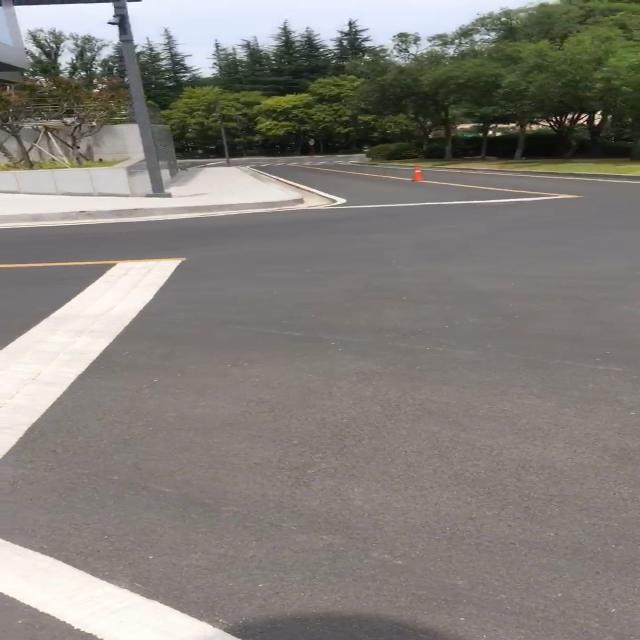obstacle: (108, 0, 173, 199), (401, 162, 428, 181)
road: (0, 160, 640, 640)
sidewalk: (0, 163, 304, 231)
